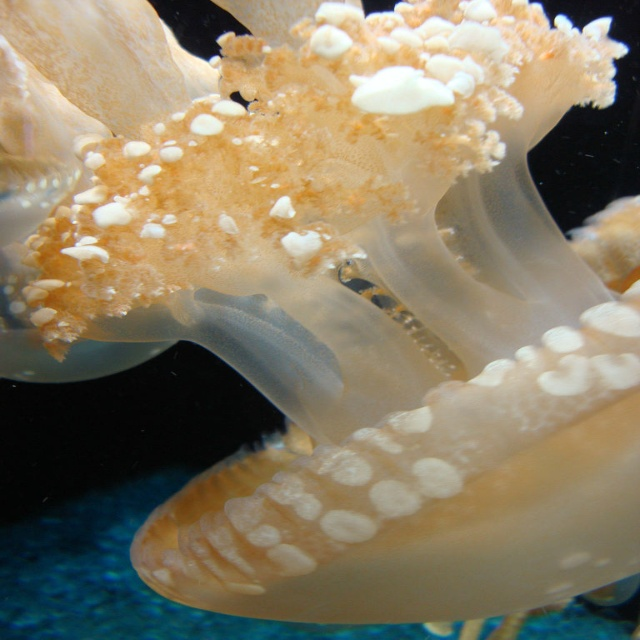Jellyfish: (0, 0, 639, 638)
